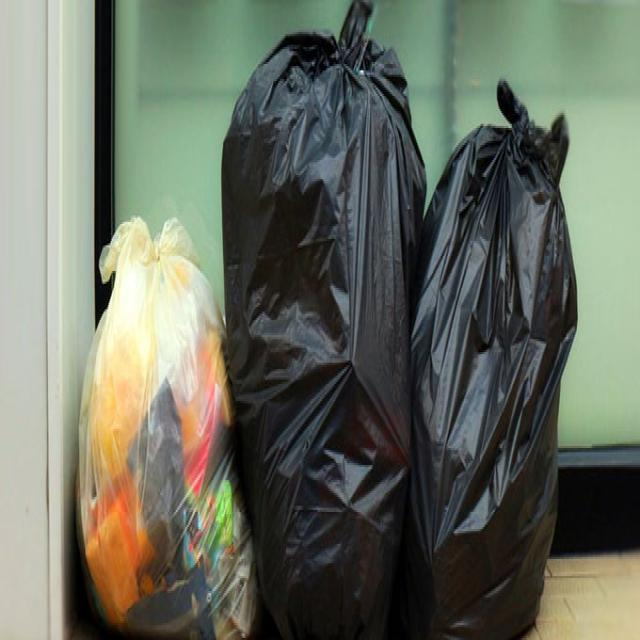sampah-detection: (218, 0, 428, 640), (408, 74, 579, 640), (76, 205, 260, 640)
